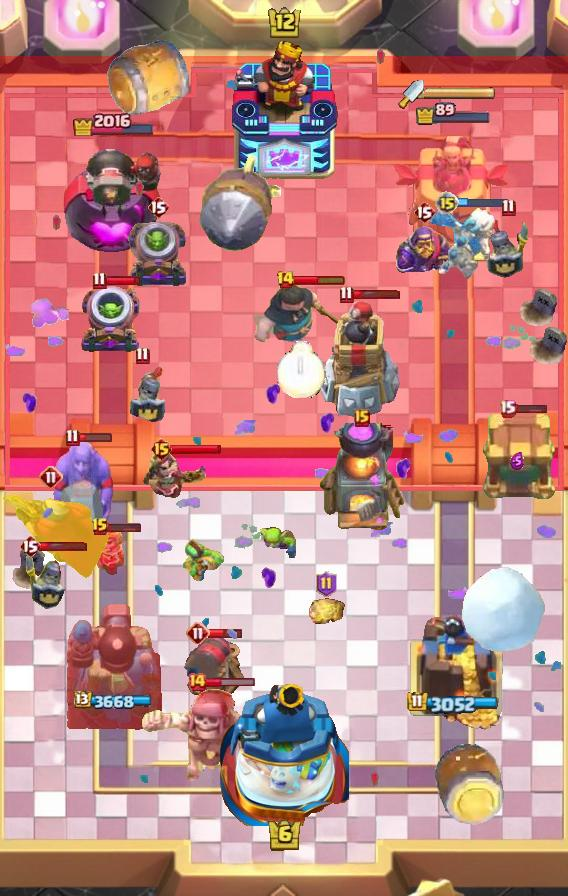archer-queen: (50, 440, 116, 552)
bar: (391, 132, 515, 256)
bomb: (478, 413, 556, 501)
bomber-evolution: (139, 446, 209, 502), (91, 524, 129, 576)
dirt: (106, 37, 192, 119), (433, 742, 509, 826)
electro-giant: (139, 687, 281, 801)
electro-spirit: (510, 452, 524, 470)
elixir: (277, 341, 327, 398)
emote: (293, 274, 346, 286), (170, 443, 222, 455), (351, 288, 401, 300), (38, 540, 88, 552), (457, 196, 509, 207), (205, 677, 256, 688), (106, 274, 143, 286), (106, 521, 142, 533), (208, 627, 243, 639), (77, 432, 113, 443), (513, 402, 548, 413)
firecracker-evolution: (396, 225, 452, 275)
giant-snowball: (176, 539, 224, 583)
goblin-cage: (126, 219, 190, 289), (79, 285, 143, 355)
hunter: (318, 423, 406, 533)
ice-spirit-evolution: (306, 597, 346, 627)
king-tower: (219, 678, 349, 826), (230, 41, 338, 181)
king-tower-bar: (424, 87, 496, 101)
mini-pekka: (426, 206, 498, 282)
princess: (118, 364, 166, 426), (23, 549, 71, 609), (486, 219, 530, 279)
queen-tower: (403, 613, 506, 731)
royal-giant-evolution: (180, 632, 248, 702)
royal-hog: (253, 282, 349, 350)
selected: (407, 690, 499, 714), (72, 110, 156, 136), (416, 102, 493, 126), (74, 691, 154, 711)
text: (435, 191, 459, 215), (39, 465, 63, 489), (186, 621, 210, 645), (150, 437, 173, 461), (316, 571, 337, 597), (147, 195, 169, 219), (413, 200, 435, 224), (19, 534, 41, 558), (276, 270, 296, 290), (187, 672, 207, 692), (91, 517, 109, 537), (499, 399, 517, 417), (354, 409, 370, 427), (65, 428, 80, 447), (92, 271, 107, 289), (135, 346, 149, 365), (501, 199, 515, 217), (339, 285, 353, 303)
tower-bar: (64, 601, 164, 731), (62, 138, 166, 256)
wall-breaker: (461, 567, 547, 654)
wall-breaker-evolution: (0, 493, 112, 581)
x-bow: (198, 152, 289, 251)
zap: (258, 525, 300, 567)
zappy: (318, 298, 403, 422)
